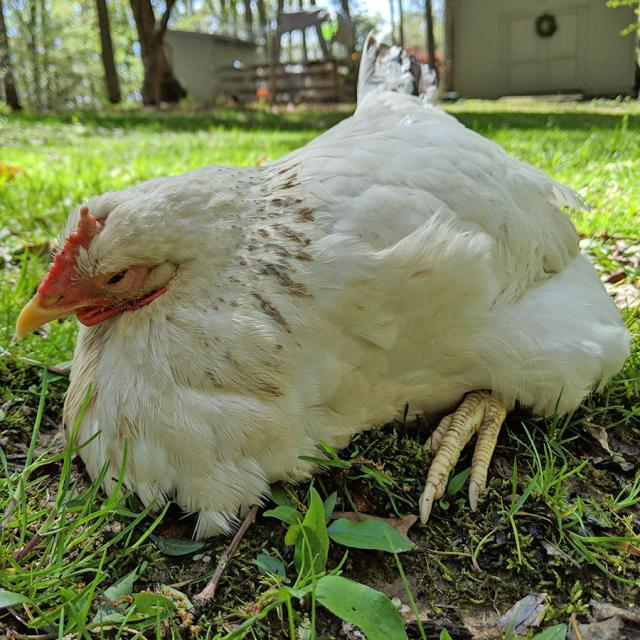AbNormal: (18, 35, 629, 528)
